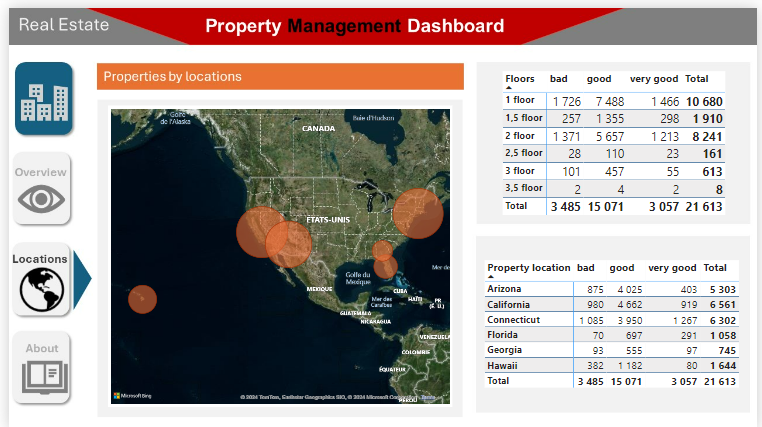

Layout of this report page (visuals, bound fields, positions):
{"tool":"powerbi","page":{"name":"Page 2","canvas":[1280,720],"ordinal":1},"visuals":[{"type":"map","fields":{"Category":["Dim Location.Property location"],"Size":["Measures table.total properties"]},"box":[170.2,167,588.5,515.4],"z":0},{"type":"pivotTable","fields":{"Rows":["Dim Location.Property location"],"Columns":["Dim condition status.condition status"],"Values":["Measures table.total properties"]},"box":[806.4,424.7,458.1,237],"z":1000},{"type":"pivotTable","fields":{"Rows":["Dim floors.Floors"],"Columns":["Dim condition status.condition status"],"Values":["Measures table.total properties"]},"box":[838.3,101.8,437.4,295.9],"z":2000}]}

Visuals, with their boxes on the page's 1280x720 design canvas (x1, y1, x2, y2). These are canvas units, not pixel positions in the 762x427 screenshot, which may show the page scaled, cropped or inside an application window:
map - Dim Location.Property location x Measures table.total properties: [170,167,759,682]
pivotTable - Dim Location.Property location x Dim condition status.condition status: [806,425,1264,662]
pivotTable - Dim floors.Floors x Dim condition status.condition status: [838,102,1276,398]
